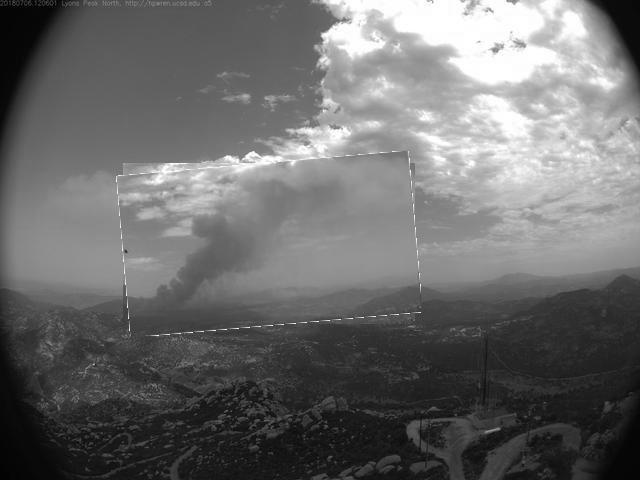smoke: (121, 158, 420, 332)
